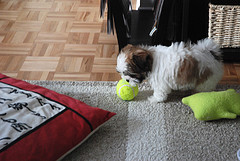tennis ball: (115, 77, 139, 102)
